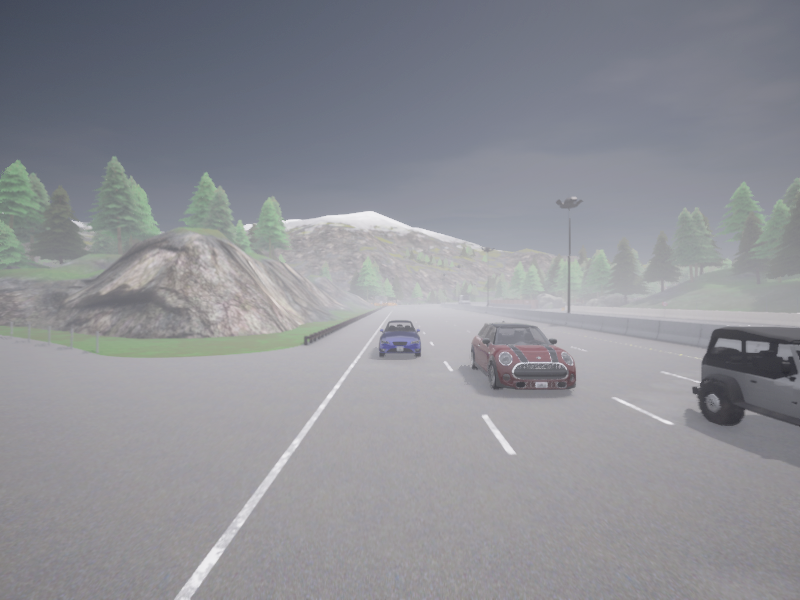vehicle: (692, 326, 799, 425), (470, 320, 576, 389), (379, 320, 420, 356), (459, 295, 469, 304)
